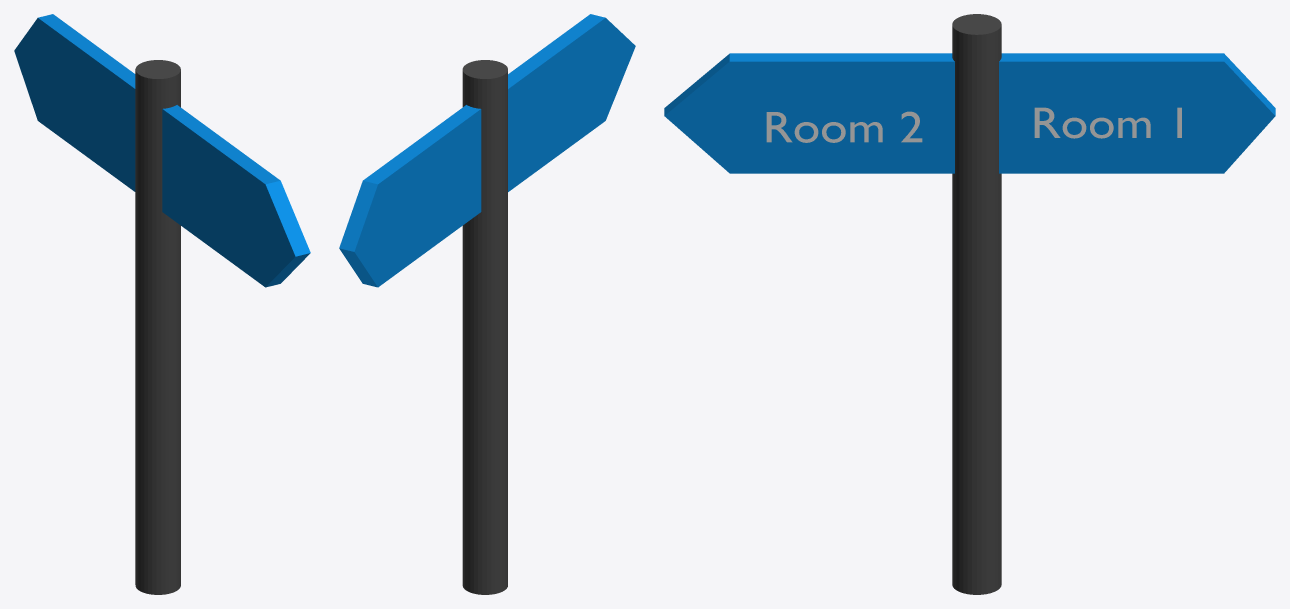
3 views of the same model, side by side, from view 1: azimuth 30°, elevation 25°; view 2: azimuth 150°, elevation 25°; view 3: azimuth 270°, elevation 25° (orthographic). The views are drawn at different scales.
Parts seen in each view (by area): view 1: Plane, Cylinder; view 2: Plane, Cylinder; view 3: Plane, Cylinder, Room 2, Room 1.
Part boxes in pixels (x1,y1,x2,y2): Plane: (14, 14, 310, 287); Cylinder: (135, 60, 180, 594); Plane: (339, 14, 635, 287); Cylinder: (462, 60, 507, 594); Plane: (664, 53, 1275, 173); Cylinder: (952, 14, 1001, 594); Room 2: (766, 111, 922, 142); Room 1: (1034, 107, 1181, 138).
Bounding box in the file's own units: 0.4 × 5 × 4.94.
